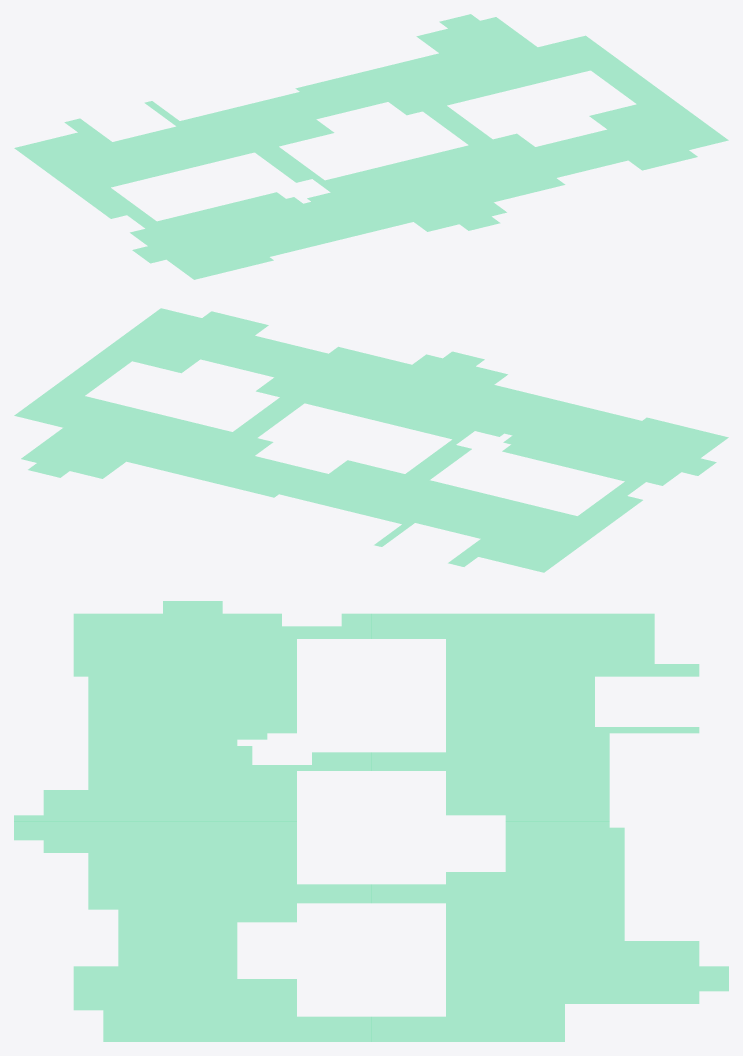
Rendered from navmesh.glb.
3 views of the same model, one above another, from view 1: azimuth 30°, elevation 25°; view 2: azimuth 150°, elevation 25°; view 3: azimuth 270°, elevation 25° (orthographic). The views are drawn at different scales.
Visible parts, largest first — view 1: NAVMESH; view 2: NAVMESH; view 3: NAVMESH.
Part boxes in pixels (x1,y1,x2,y2): NAVMESH: (14,14,728,279); NAVMESH: (14,308,728,572); NAVMESH: (14,601,728,1041).
Size of the model in its own units: 17.5 by 0 by 12.
